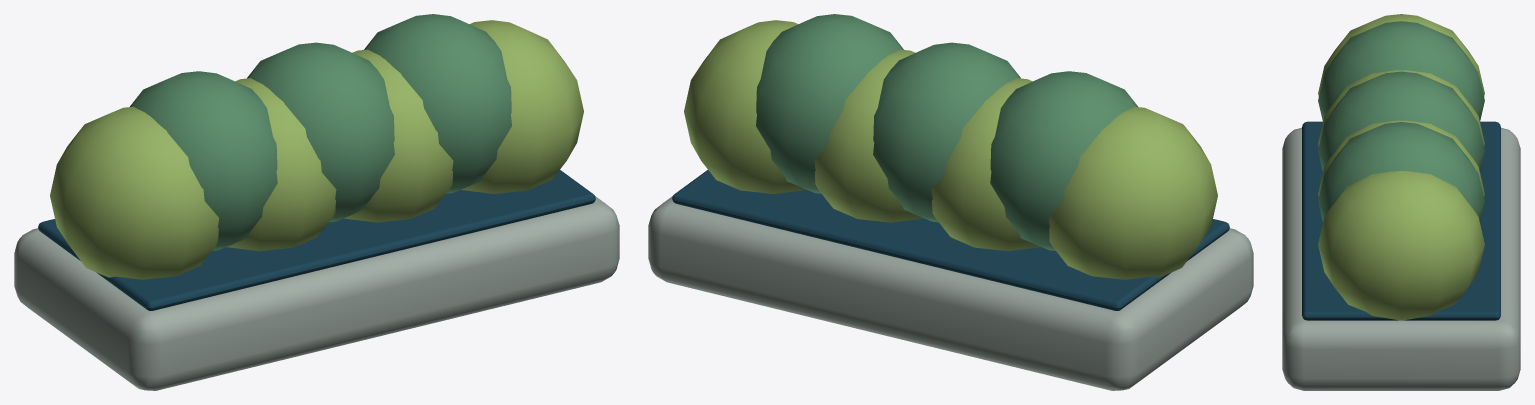
Rendered from garden.glb.
3 renders of one model, left to right at view 1: azimuth 30°, elevation 25°; view 2: azimuth 150°, elevation 25°; view 3: azimuth 270°, elevation 25°, orthographic. The views are drawn at different scales.
Visible parts, largest first — view 1: Raised garden, Rounded hedge, Soil, Rounded hedge.003, Rounded hedge.001, Rounded hedge.005, Rounded hedge.006, Rounded hedge.002, Rounded hedge.004; view 2: Raised garden, Rounded hedge, Soil, Rounded hedge.003, Rounded hedge.001, Rounded hedge.005, Rounded hedge.006, Rounded hedge.002, Rounded hedge.004; view 3: Raised garden, Rounded hedge.006, Soil, Rounded hedge.001, Rounded hedge.003, Rounded hedge.005, Rounded hedge, Rounded hedge.004, Rounded hedge.002.
Part boxes in pixels (bbox=[...]): Raised garden: bbox=[14, 196, 619, 390]; Rounded hedge: bbox=[50, 106, 218, 279]; Soil: bbox=[38, 170, 595, 310]; Rounded hedge.003: bbox=[247, 42, 394, 222]; Rounded hedge.001: bbox=[130, 71, 277, 250]; Rounded hedge.005: bbox=[364, 14, 511, 193]; Rounded hedge.006: bbox=[461, 20, 583, 193]; Rounded hedge.002: bbox=[227, 78, 336, 251]; Rounded hedge.004: bbox=[344, 49, 453, 222]; Raised garden: bbox=[648, 196, 1253, 390]; Rounded hedge: bbox=[1049, 106, 1217, 279]; Soil: bbox=[672, 170, 1229, 310]; Rounded hedge.003: bbox=[873, 42, 1020, 222]; Rounded hedge.001: bbox=[990, 71, 1137, 250]; Rounded hedge.005: bbox=[756, 14, 903, 193]; Rounded hedge.006: bbox=[684, 20, 806, 193]; Rounded hedge.002: bbox=[931, 78, 1040, 251]; Rounded hedge.004: bbox=[814, 49, 923, 222]; Raised garden: bbox=[1282, 127, 1520, 390]; Rounded hedge.006: bbox=[1318, 171, 1484, 320]; Soil: bbox=[1302, 121, 1500, 320]; Rounded hedge.001: bbox=[1318, 21, 1484, 121]; Rounded hedge.003: bbox=[1318, 71, 1484, 171]; Rounded hedge.005: bbox=[1318, 122, 1484, 221]; Rounded hedge: bbox=[1318, 14, 1484, 96]; Rounded hedge.004: bbox=[1318, 120, 1484, 197]; Rounded hedge.002: bbox=[1318, 70, 1484, 146].
Size of the model in its own units: 2.6 by 1.19 by 1.2.
